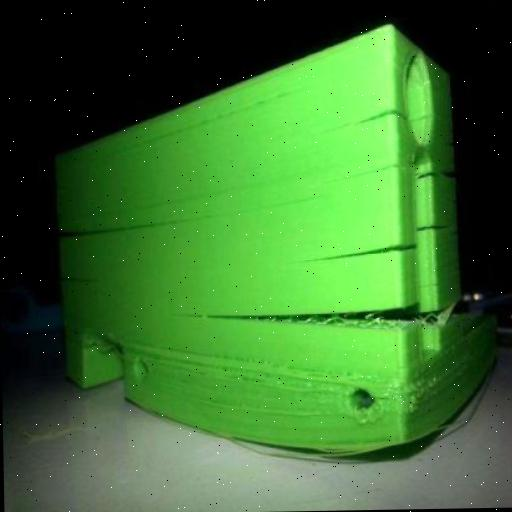cracks: (192, 278, 464, 362), (304, 98, 452, 176), (292, 211, 462, 275), (50, 206, 175, 248), (48, 266, 110, 293)
